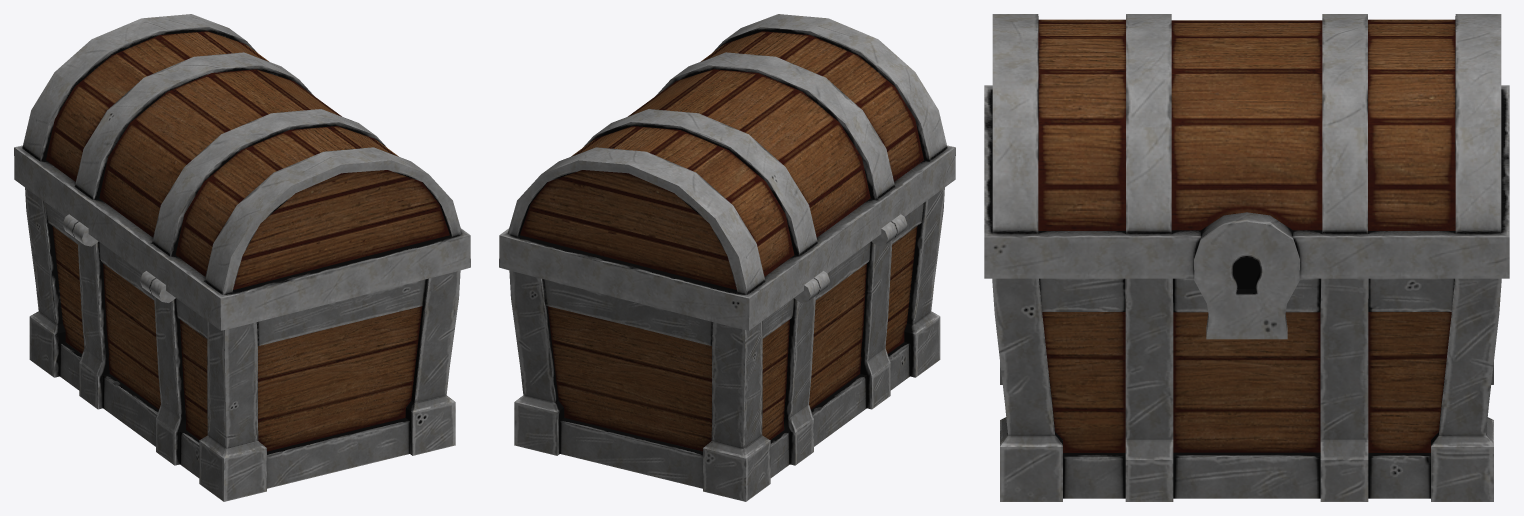
3 views of the same model, side by side, from view 1: azimuth 30°, elevation 25°; view 2: azimuth 150°, elevation 25°; view 3: azimuth 270°, elevation 25° (orthographic). The views are drawn at different scales.
Parts seen in each view (by area): view 1: Chest_Top, Chest_Bottom; view 2: Chest_Top, Chest_Bottom; view 3: Chest_Top, Chest_Bottom.
Boxes of the visible parts, x1,y1,x2,y2 form: Chest_Top: (14, 14, 470, 330); Chest_Bottom: (25, 187, 460, 501); Chest_Top: (499, 14, 955, 330); Chest_Bottom: (509, 187, 944, 501); Chest_Top: (984, 14, 1509, 339); Chest_Bottom: (992, 278, 1501, 501).
Bounding box in the file's own units: 1.81 × 2.06 × 2.48.
1 material, 1 textured.
